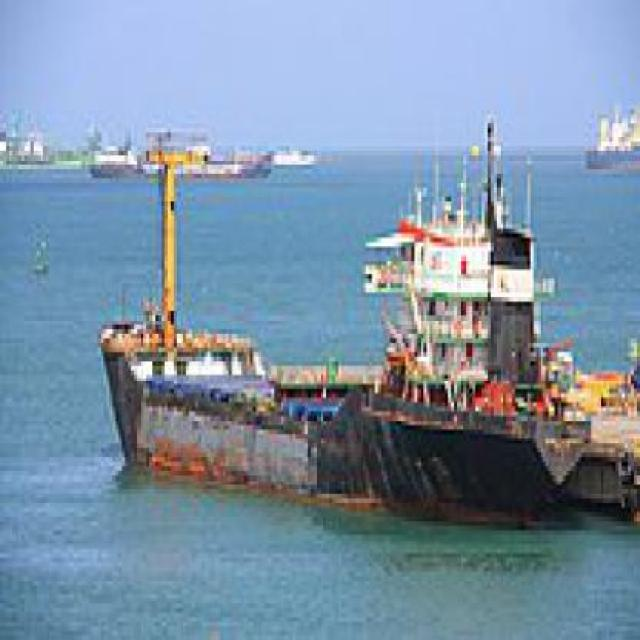container: (346, 107, 638, 550), (84, 120, 373, 504)
